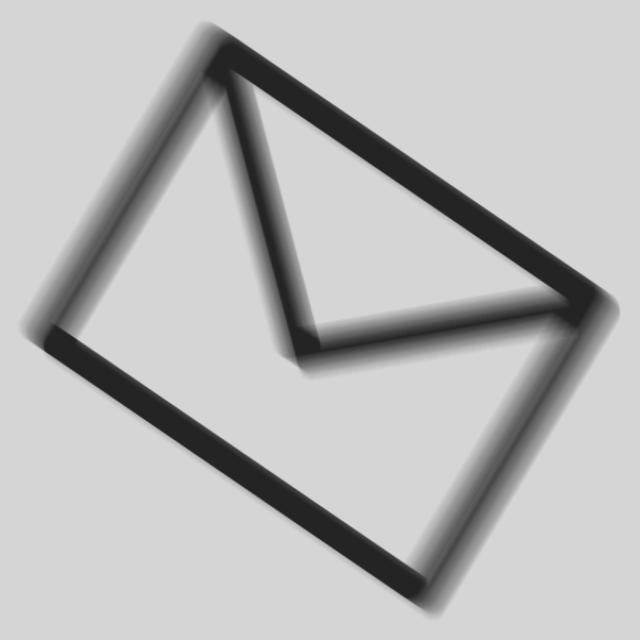letter: (15, 9, 630, 621)
